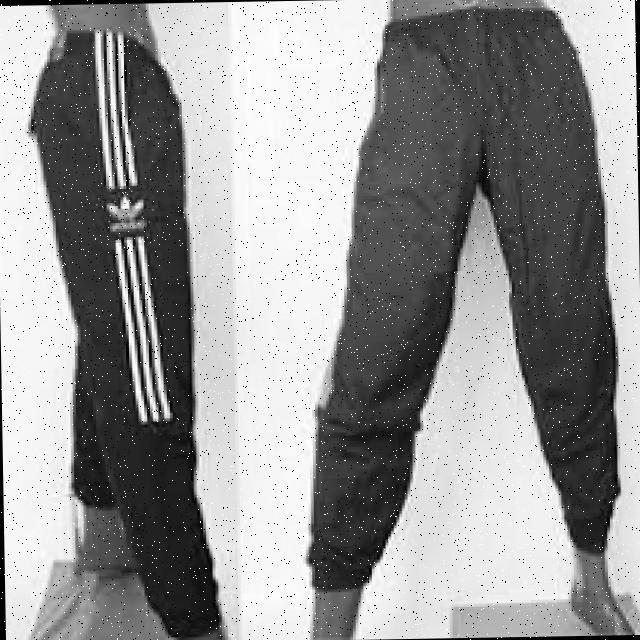Adidas: (94, 185, 154, 228)
